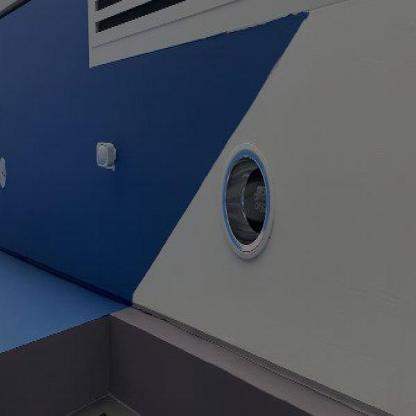light_off: (214, 119, 281, 263)
